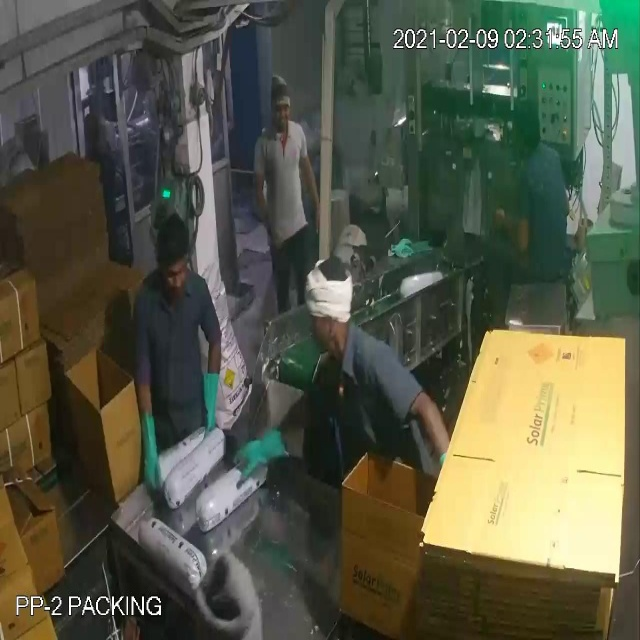Guantes: (225, 409, 305, 483), (126, 380, 164, 509), (191, 356, 228, 455)
Sin_guantes: (483, 181, 532, 262), (295, 142, 332, 241), (244, 154, 274, 243)
